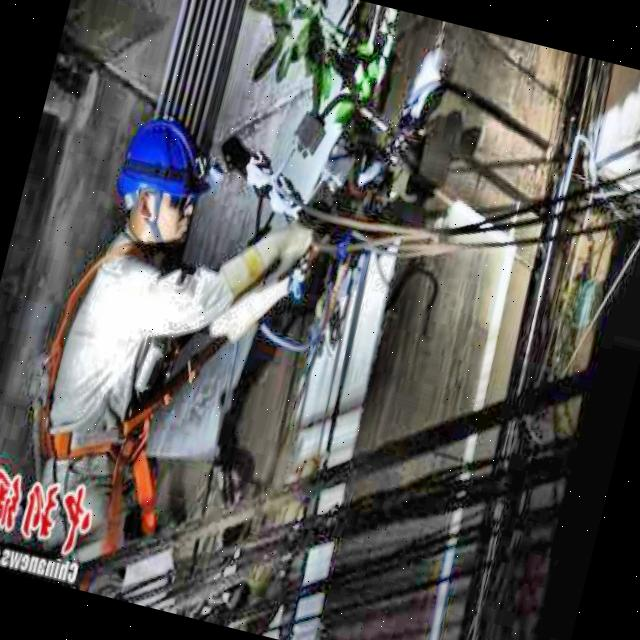helmet: (92, 96, 221, 272)
